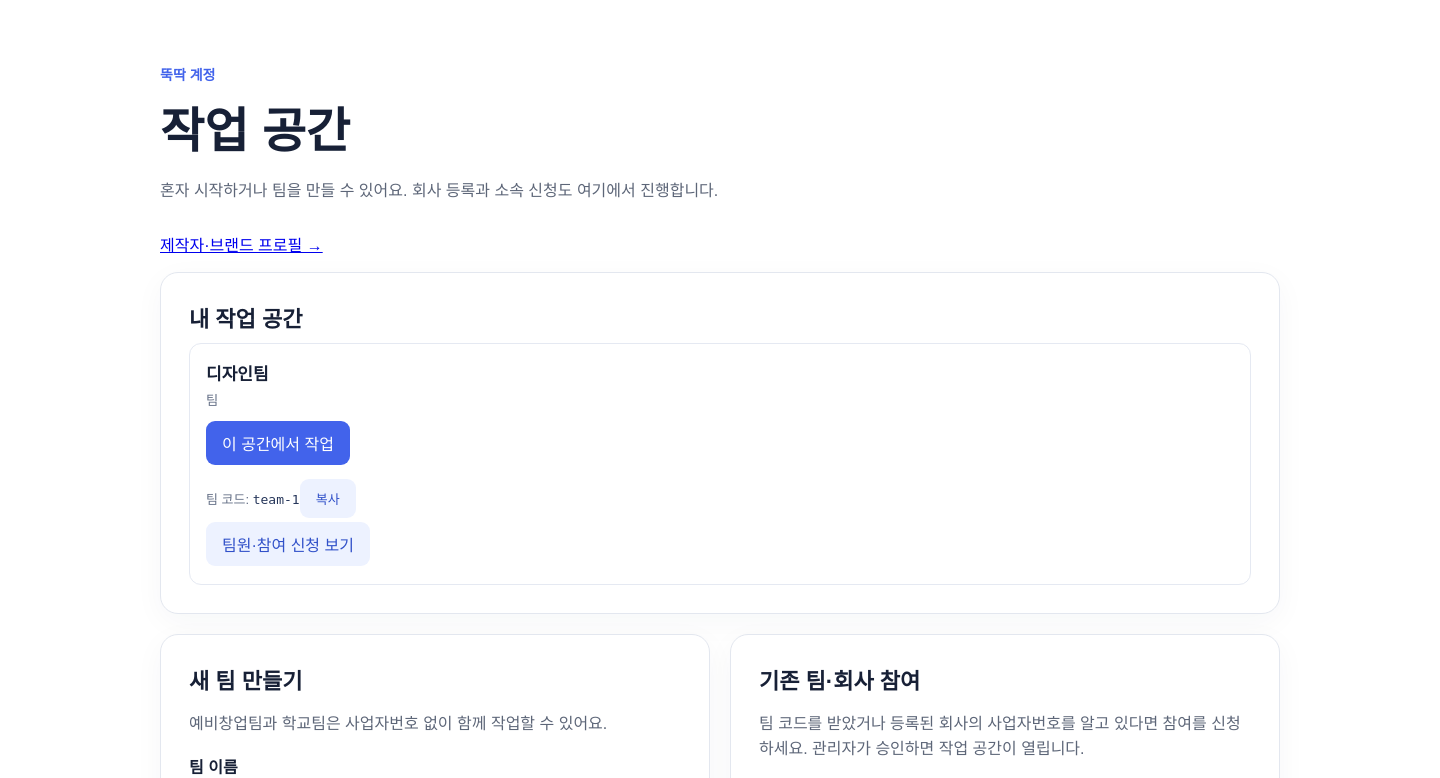
Test: permission or server errors preserve the member and re-enable controls
Click the button "팀원·참여 신청 보기".
click(288, 544)  # box [206,522,370,566]
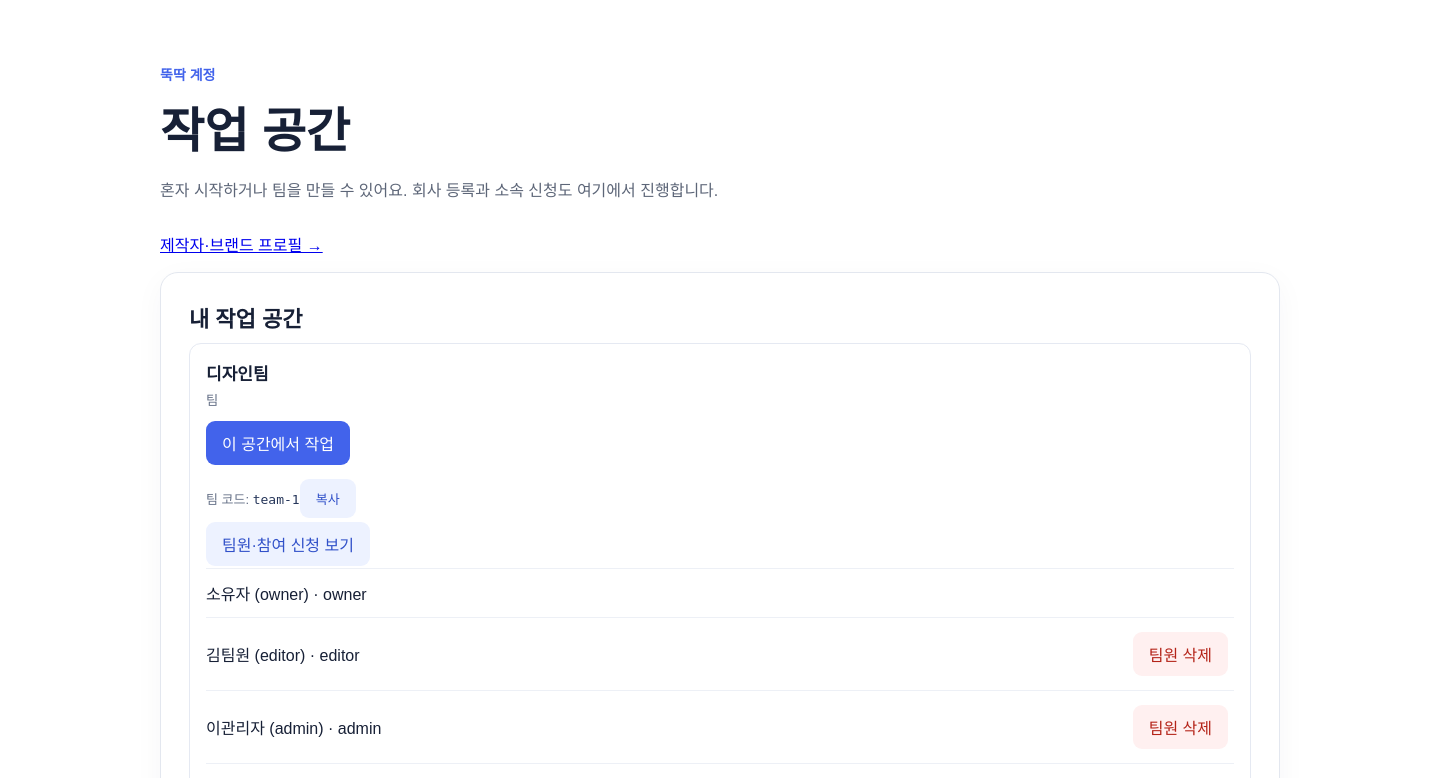
Check: the text "김팀원 (editor) · editor" is shown, box [206,642,360,666]
Click the button with aria-label "김팀원 팀원 삭제".
click(1180, 654)  # box [1133,632,1228,676]
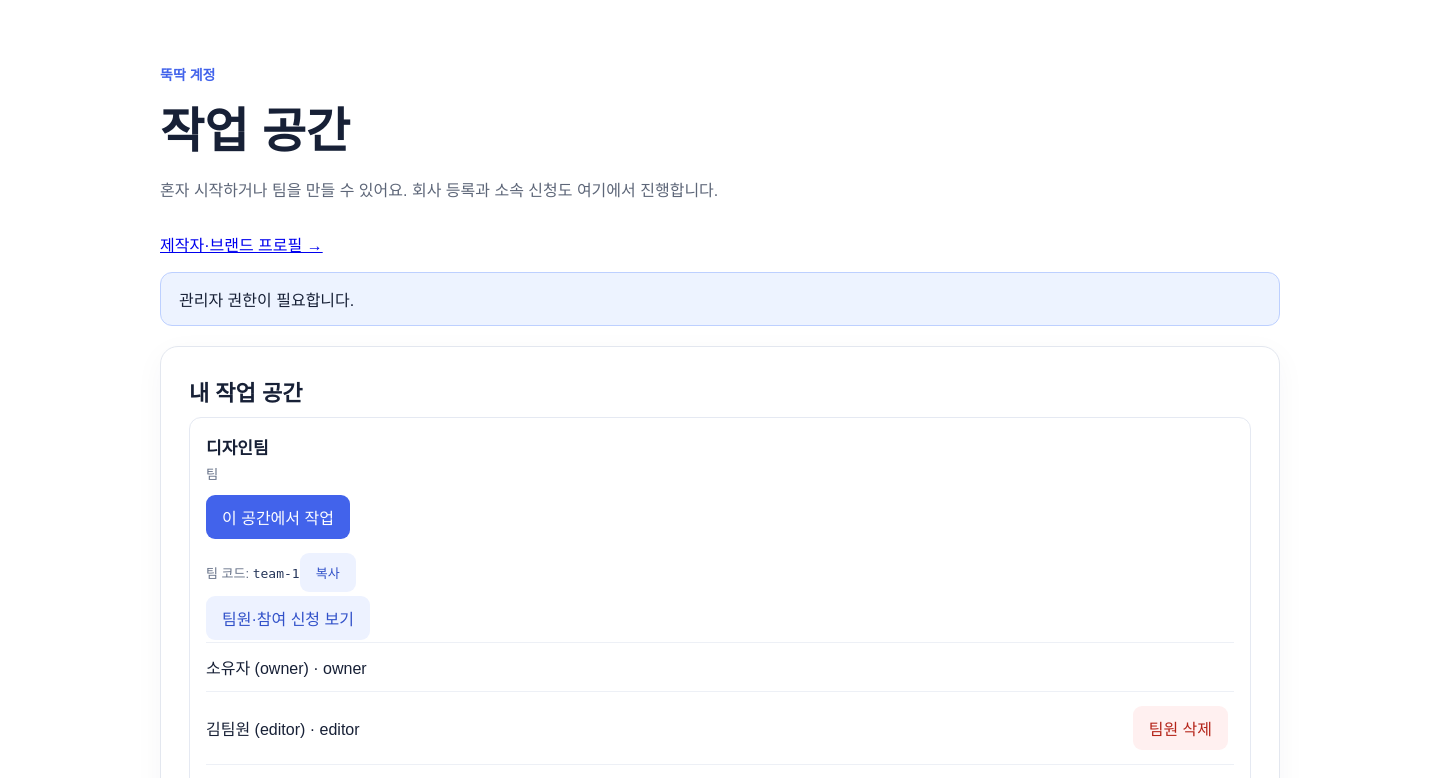
Check: the text "김팀원 (editor) · editor" is shown, box [206,716,360,740]
Check: the button with aria-label "김팀원 팀원 삭제" is enabled, box [1133,706,1228,750]
Check: the message reads "관리자 권한이 필요합니다.", box [179,292,354,309]
